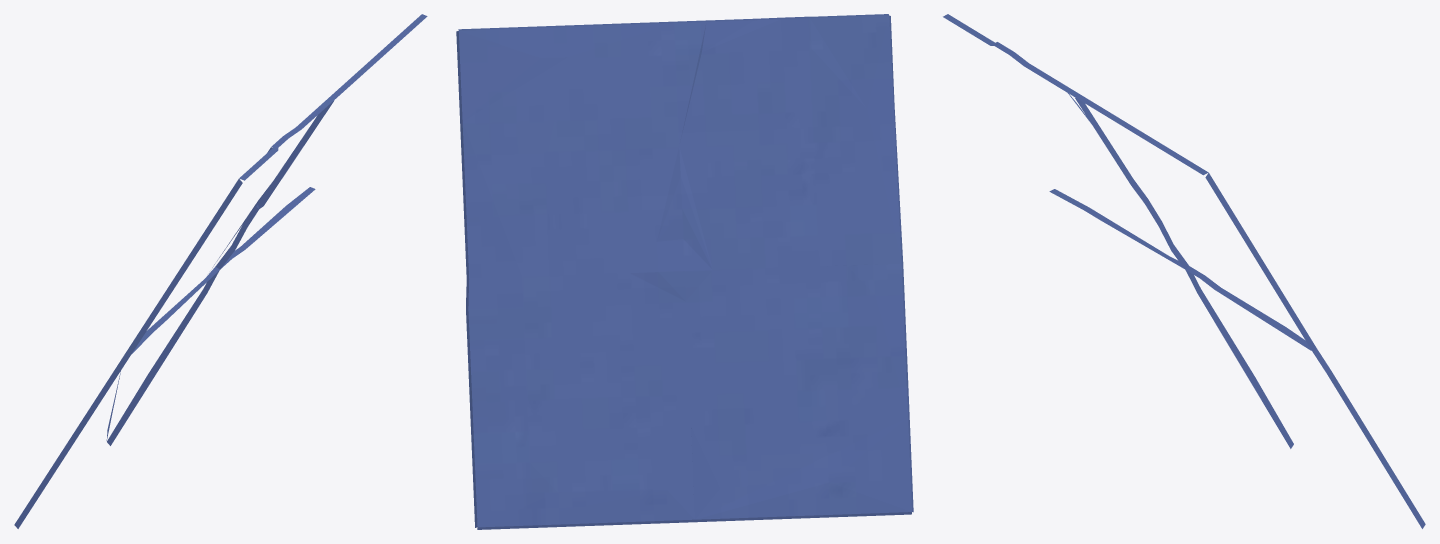
3 renders of one model, left to right at view 1: azimuth 30°, elevation 25°; view 2: azimuth 150°, elevation 25°; view 3: azimuth 270°, elevation 25°, orthographic. The views are drawn at different scales.
Size of the model in its own units: 78937 by 68904 by 71773.
1 material, 1 textured.
